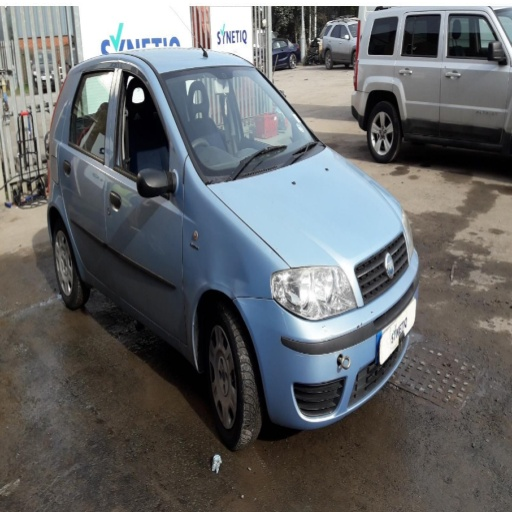dent: (210, 239, 250, 297), (198, 271, 210, 287)
scratch: (281, 311, 288, 330)
